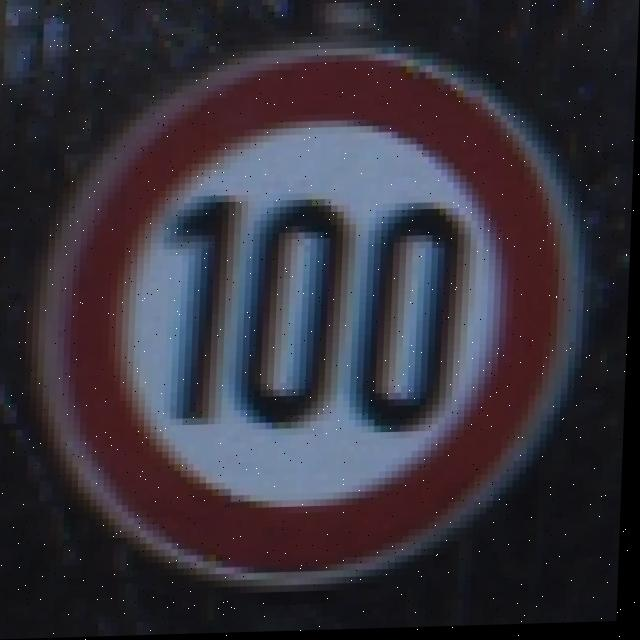speed_limit_100: (18, 48, 593, 607)
